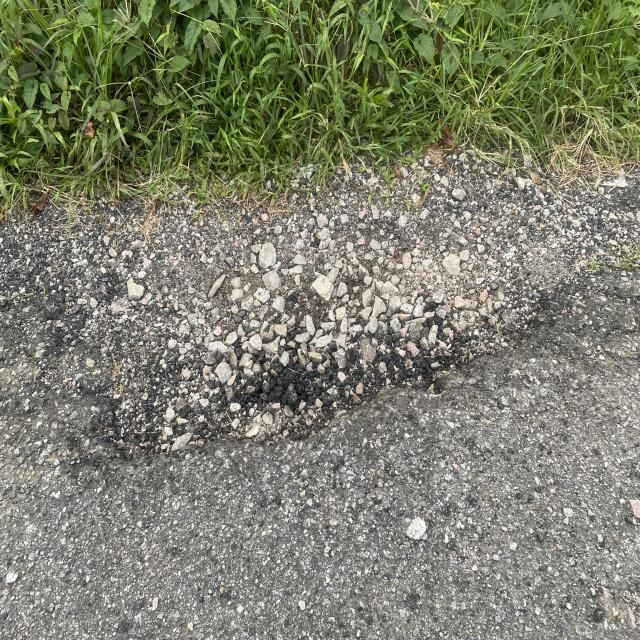Pothole: (46, 243, 539, 513)
